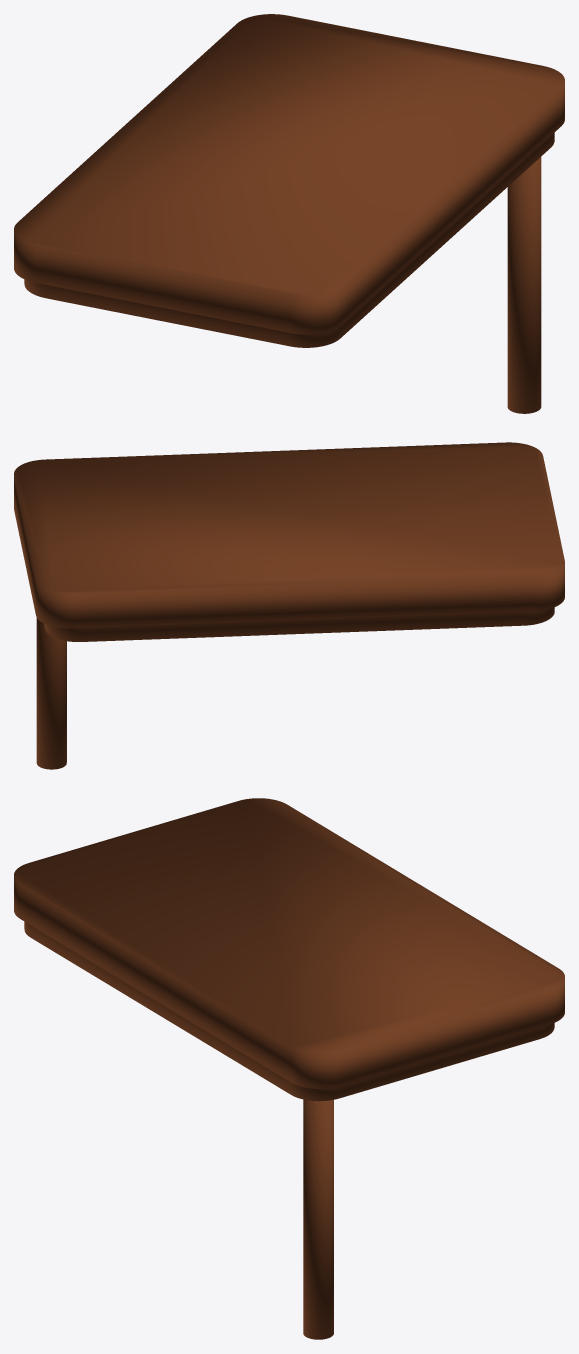
The model's file is desk.glb.
The picture shows the model from 3 angles, top to bottom: view 1: azimuth 30°, elevation 25°; view 2: azimuth 150°, elevation 25°; view 3: azimuth 270°, elevation 25°; orthographic projection. The views are drawn at different scales.
Parts seen in each view (by area): view 1: Cube.023, Cylinder.002, Cube.024; view 2: Cube.023, Cube.024, Cylinder.002; view 3: Cube.023, Cylinder.002, Cube.024.
Boxes of the visible parts, bbox=[...] form: Cube.023: bbox=[14, 14, 564, 334]; Cylinder.002: bbox=[507, 157, 541, 413]; Cube.024: bbox=[24, 133, 554, 347]; Cube.023: bbox=[14, 442, 564, 628]; Cube.024: bbox=[44, 607, 554, 641]; Cylinder.002: bbox=[36, 617, 66, 769]; Cube.023: bbox=[14, 798, 564, 1088]; Cylinder.002: bbox=[303, 1099, 333, 1339]; Cube.024: bbox=[24, 921, 554, 1101].
Size of the model in its own units: 1.43 by 0.7718 by 1.3.
